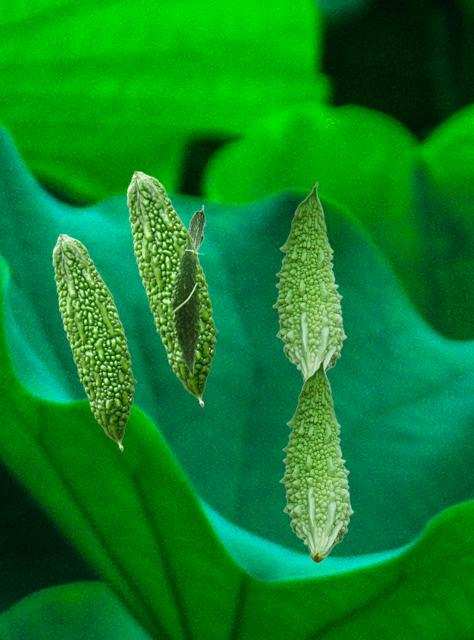ampalaya: (126, 170, 219, 407), (52, 233, 137, 451), (279, 356, 354, 563), (272, 181, 347, 381), (168, 233, 206, 376), (188, 204, 206, 251)
